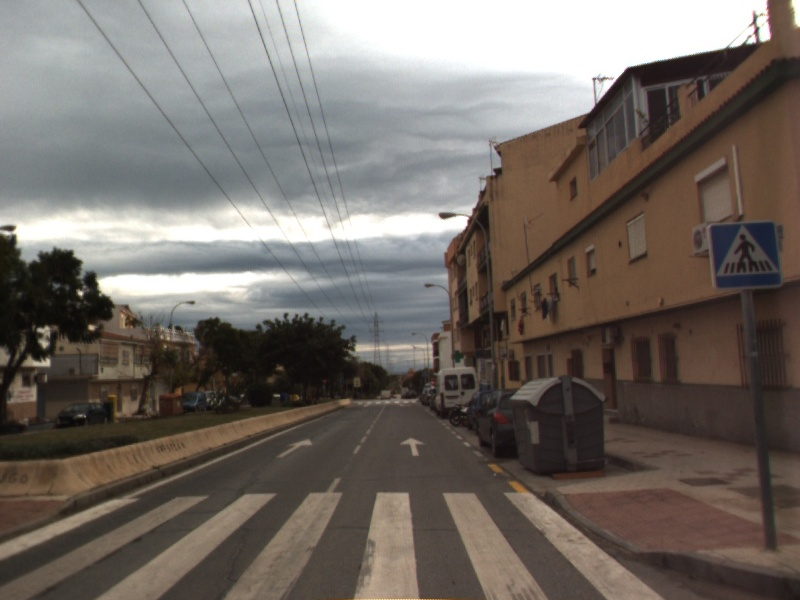STRAIGHT: (274, 436, 315, 460), (398, 435, 428, 458)
